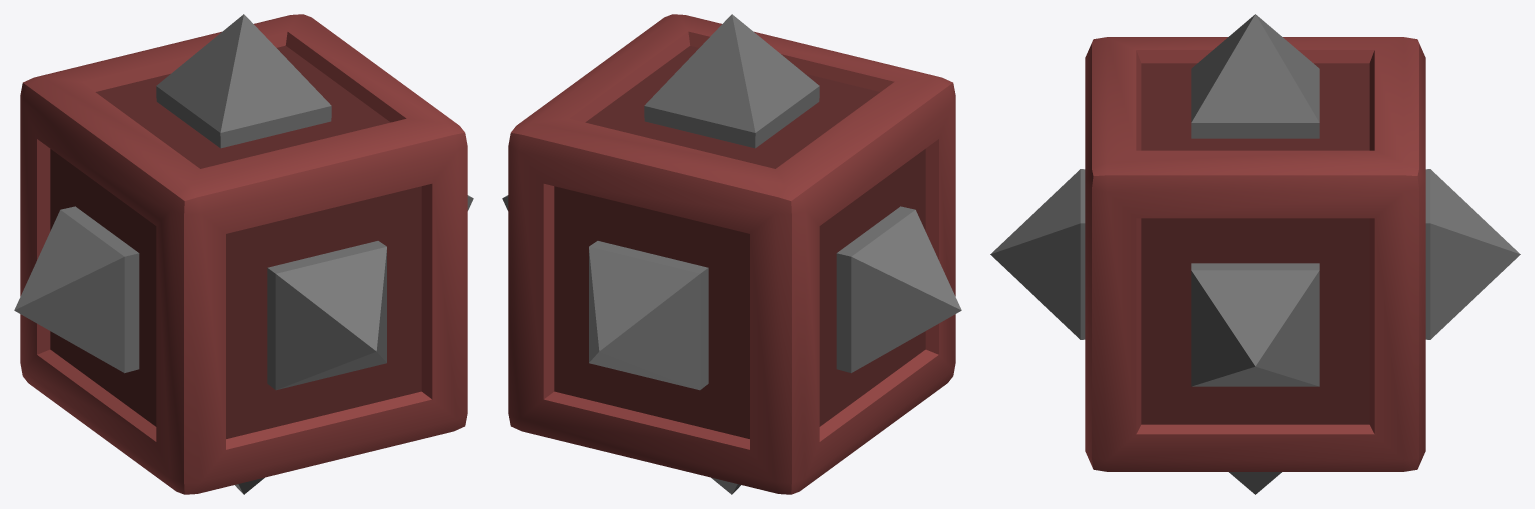
The model's file is Cube_Spikes.gltf.
3 renders of one model, left to right at view 1: azimuth 30°, elevation 25°; view 2: azimuth 150°, elevation 25°; view 3: azimuth 270°, elevation 25°, orthographic.
Parts seen in each view (by area): view 1: Cube_Spikes; view 2: Cube_Spikes; view 3: Cube_Spikes.
Boxes of the visible parts, bbox=[...] form: Cube_Spikes: bbox=[14, 14, 473, 494]; Cube_Spikes: bbox=[502, 14, 961, 494]; Cube_Spikes: bbox=[990, 14, 1520, 494].
Bounding box in the file's own units: 3.15 × 3.15 × 3.15.
